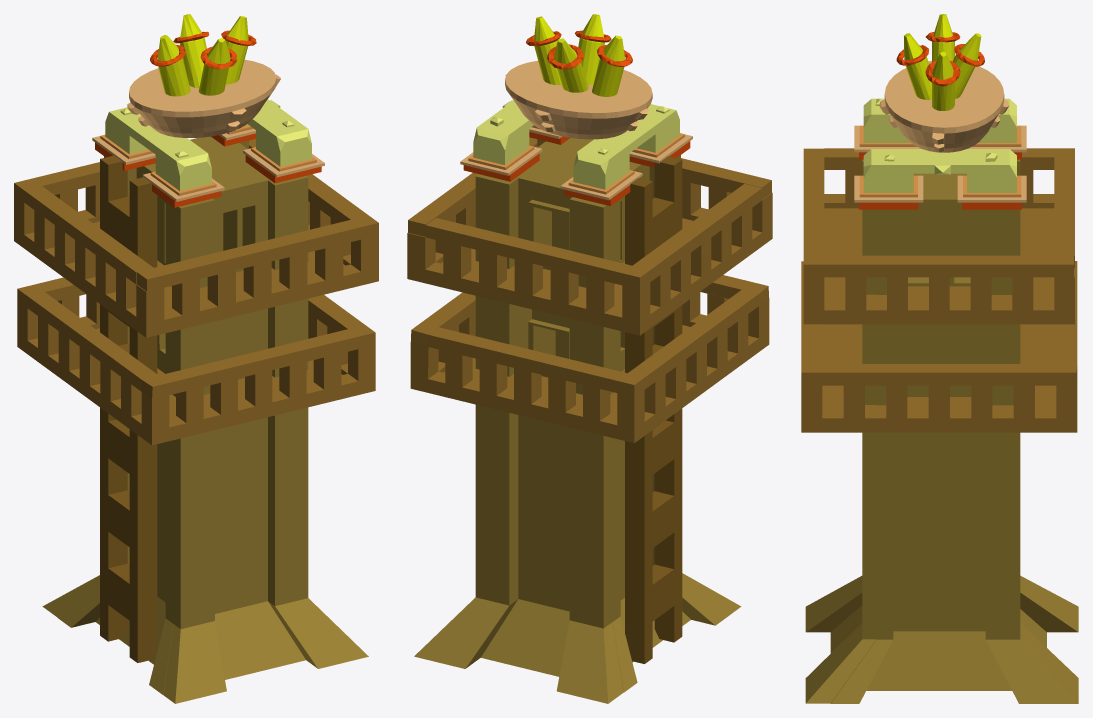
Rendered from TorreGood.fbx.
3 views of the same model, side by side, from view 1: azimuth 30°, elevation 25°; view 2: azimuth 150°, elevation 25°; view 3: azimuth 270°, elevation 25° (orthographic). The views are drawn at different scales.
Parts seen in each view (by area): view 1: Cube, Plane.001, Plane, Cube.005, Cube.006, Cylinder, Plane.012, Plane.005, Plane.011, Cylinder.002, Cylinder.003, Cylinder.004 (+3 smaller); view 2: Cube, Plane.001, Plane, Cube.005, Cylinder, Cube.006, Plane.011, Plane.006, Plane.012, Cylinder.002, Cylinder.003, Cylinder.004 (+3 smaller); view 3: Cube, Plane.001, Plane, Cylinder, Plane.006, Plane.005, Plane.012, Cylinder.004, Cylinder.001, Plane.011, Cylinder.003, Cylinder.002 (+6 smaller).
Boxes of the visible parts, bbox=[...] form: Cube: bbox=[42, 136, 368, 703]; Plane.001: bbox=[14, 139, 378, 337]; Plane: bbox=[17, 277, 375, 445]; Cube.005: bbox=[100, 155, 129, 641]; Cube.006: bbox=[129, 177, 157, 662]; Cylinder: bbox=[127, 59, 280, 137]; Plane.012: bbox=[155, 138, 211, 191]; Plane.005: bbox=[256, 114, 311, 166]; Plane.011: bbox=[105, 107, 186, 154]; Cylinder.002: bbox=[157, 35, 190, 96]; Cylinder.003: bbox=[179, 14, 206, 87]; Cylinder.004: bbox=[198, 38, 230, 95]; Cube: bbox=[414, 138, 741, 703]; Plane.001: bbox=[407, 137, 772, 335]; Plane: bbox=[410, 275, 769, 443]; Cube.005: bbox=[625, 178, 674, 663]; Cylinder: bbox=[505, 60, 652, 139]; Cube.006: bbox=[654, 156, 682, 642]; Plane.011: bbox=[573, 121, 655, 189]; Plane.006: bbox=[473, 100, 533, 165]; Plane.012: bbox=[637, 104, 679, 152]; Cylinder.002: bbox=[592, 35, 625, 96]; Cylinder.003: bbox=[554, 38, 588, 92]; Cylinder.004: bbox=[578, 14, 604, 84]; Cube: bbox=[805, 159, 1078, 703]; Plane.001: bbox=[803, 148, 1074, 324]; Plane: bbox=[801, 261, 1077, 432]; Cylinder: bbox=[879, 61, 1009, 152]; Plane.006: bbox=[913, 149, 1016, 192]; Plane.005: bbox=[863, 149, 913, 192]; Plane.012: bbox=[863, 98, 910, 142]; Cylinder.004: bbox=[904, 33, 931, 99]; Cylinder.001: bbox=[932, 51, 954, 110]; Plane.011: bbox=[978, 98, 1016, 142]; Cylinder.003: bbox=[952, 33, 981, 98]; Cylinder.002: bbox=[932, 14, 954, 62].
Size of the model in its own units: 2386 by 5939 by 2405.
